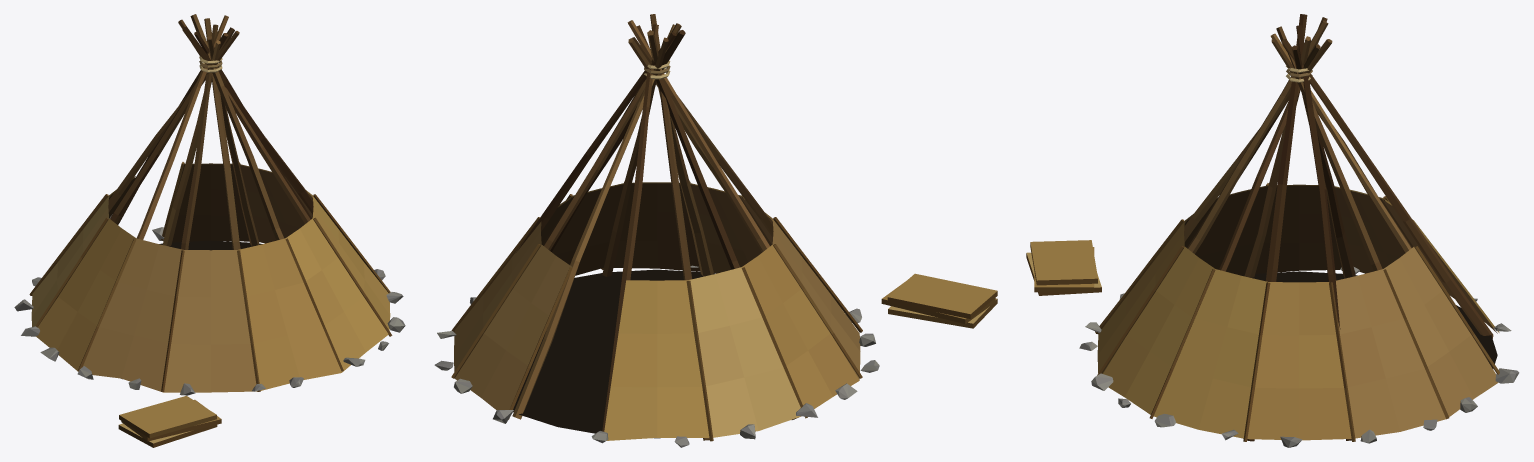
The model's file is hide_tent_2_copertura.glb.
3 views of the same model, side by side, from view 1: azimuth 30°, elevation 25°; view 2: azimuth 150°, elevation 25°; view 3: azimuth 270°, elevation 25° (orthographic). The views are drawn at different scales.
Parts seen in each view (by area): view 1: hide_tent_2_copertura; view 2: hide_tent_2_copertura; view 3: hide_tent_2_copertura.
Boxes of the visible parts, x1,y1,x2,y2 form: hide_tent_2_copertura: [14, 14, 405, 447]; hide_tent_2_copertura: [434, 14, 997, 447]; hide_tent_2_copertura: [1026, 14, 1519, 447].
Bounding box in the file's own units: 7.41 × 6 × 7.9.
